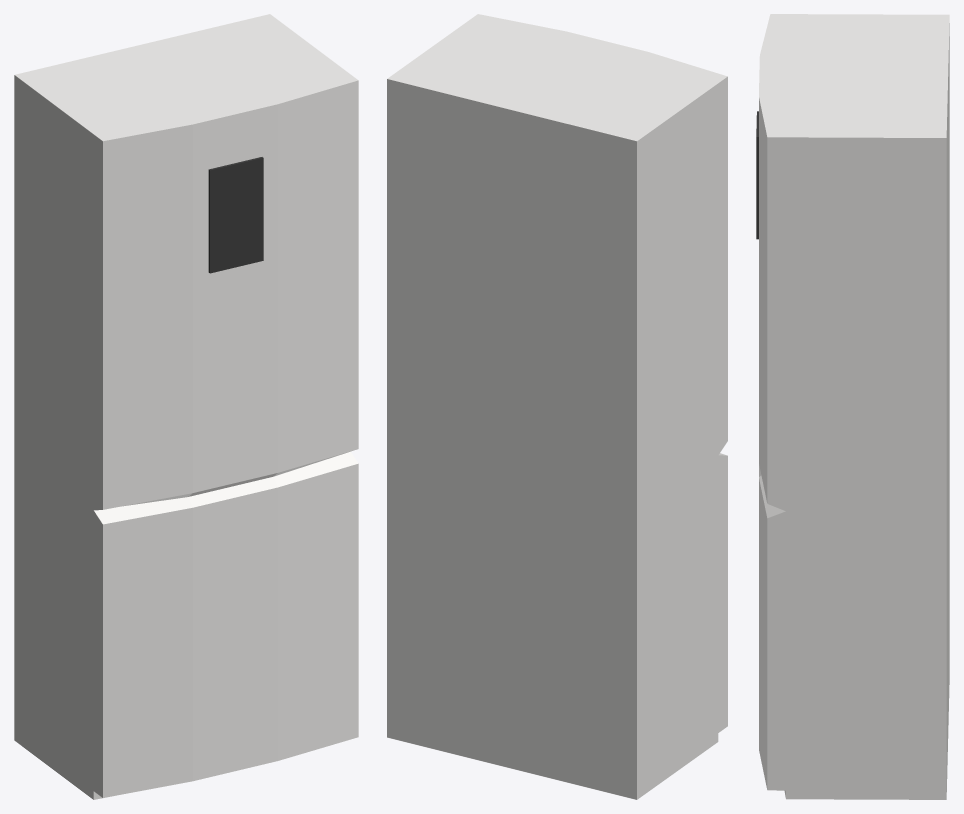
File: Fridge_4.fbx
3 renders of one model, left to right at view 1: azimuth 30°, elevation 25°; view 2: azimuth 150°, elevation 25°; view 3: azimuth 270°, elevation 25°, orthographic.
Parts seen in each view (by area): view 1: Fridge_4; view 2: Fridge_4; view 3: Fridge_4.
Boxes of the visible parts, left/top/right/bottom form: Fridge_4: left=14, top=14, right=358, bottom=799; Fridge_4: left=387, top=14, right=727, bottom=799; Fridge_4: left=756, top=14, right=949, bottom=799.
Bounding box in the file's own units: 140 × 92.15 × 348.
